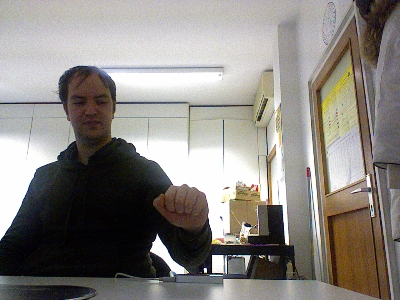石头: (152, 183, 208, 230)
